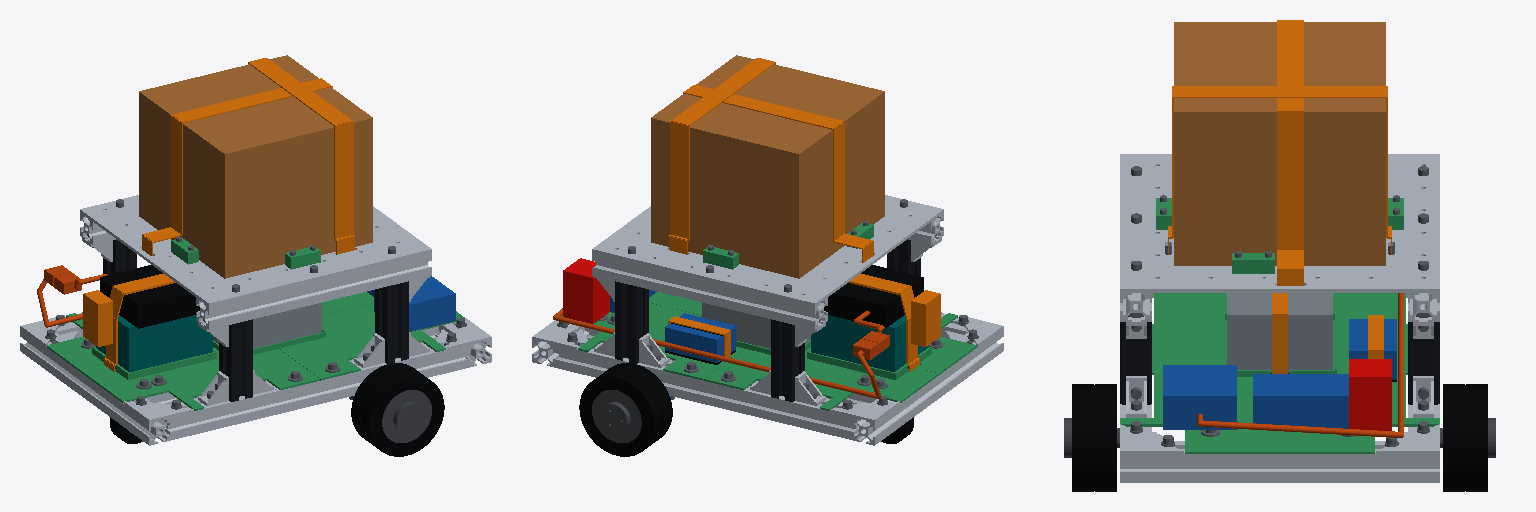
robot.urdf — amr_d61_payload_10kg:
<?xml version='1.0' encoding='utf-8'?>
<robot name="amr_d61_payload_10kg">
  <!--Generated from D6.1. SI units; +X forward, +Y left, +Z up. Inertias are estimates.-->
  <material name="aluminum">
    <color rgba="0.72 0.75 0.79 1" />
  </material>
  <material name="steel">
    <color rgba="0.38 0.4 0.43 1" />
  </material>
  <material name="pla">
    <color rgba="0.22 0.61 0.38 1" />
  </material>
  <material name="posts">
    <color rgba="0.12 0.13 0.15 1" />
  </material>
  <material name="mounts">
    <color rgba="0.15 0.43 0.69 1" />
  </material>
  <material name="motor">
    <color rgba="0.3 0.31 0.33 1" />
  </material>
  <material name="rubber">
    <color rgba="0.055 0.06 0.065 1" />
  </material>
  <material name="battery">
    <color rgba="0.02 0.4 0.4 1" />
  </material>
  <material name="computer">
    <color rgba="0.5 0.54 0.57 1" />
  </material>
  <material name="electronics">
    <color rgba="0.12 0.37 0.67 1" />
  </material>
  <material name="estop">
    <color rgba="0.85 0.08 0.06 1" />
  </material>
  <material name="belts">
    <color rgba="0.88 0.47 0.07 1" />
  </material>
  <material name="wires">
    <color rgba="0.76 0.3 0.08 1" />
  </material>
  <material name="payload">
    <color rgba="0.66 0.44 0.23 1" />
  </material>
  <link name="left_wheel_link">
    <inertial>
      <origin xyz="2.68715937167e-07 0.000842844210193 -1.43130870062e-06" rpy="0 0 0" />
      <mass value="0.45" />
      <inertia ixx="0.000337824360516" ixy="2.57511255333e-09" ixz="-2.83491628371e-11" iyy="0.000517319399072" iyz="-1.83797301139e-08" izz="0.000337817873043" />
    </inertial>
    <visual name="left_wheel_link_motor">
      <geometry>
        <mesh filename="meshes/left_wheel_link_motor.stl" scale="1 1 1" />
      </geometry>
      <material name="motor" />
    </visual>
    <visual name="left_wheel_link_rubber">
      <geometry>
        <mesh filename="meshes/left_wheel_link_rubber.stl" scale="1 1 1" />
      </geometry>
      <material name="rubber" />
    </visual>
    <collision name="left_wheel_link_rolling_contact">
      <origin xyz="0 0 0" rpy="1.57079632679 0 0" />
      <geometry>
        <cylinder radius="0.05035" length="0.043" />
      </geometry>
    </collision>
  </link>
  <link name="base_link">
    <inertial>
      <origin xyz="-0.0934123624767 -0.000838661994572 0.0827997693565" rpy="0 0 0" />
      <mass value="8.87086255317" />
      <inertia ixx="0.124227155104" ixy="0.00168170505231" ixz="0.00515841368992" iyy="0.177634628723" iyz="0.000135323530696" izz="0.226057184438" />
    </inertial>
    <visual name="base_link_motor">
      <geometry>
        <mesh filename="meshes/base_link_motor.stl" scale="1 1 1" />
      </geometry>
      <material name="motor" />
    </visual>
    <visual name="base_link_steel">
      <geometry>
        <mesh filename="meshes/base_link_steel.stl" scale="1 1 1" />
      </geometry>
      <material name="steel" />
    </visual>
    <visual name="base_link_aluminum">
      <geometry>
        <mesh filename="meshes/base_link_aluminum.stl" scale="1 1 1" />
      </geometry>
      <material name="aluminum" />
    </visual>
    <visual name="base_link_mounts">
      <geometry>
        <mesh filename="meshes/base_link_mounts.stl" scale="1 1 1" />
      </geometry>
      <material name="mounts" />
    </visual>
    <visual name="base_link_pla">
      <geometry>
        <mesh filename="meshes/base_link_pla.stl" scale="1 1 1" />
      </geometry>
      <material name="pla" />
    </visual>
    <visual name="base_link_posts">
      <geometry>
        <mesh filename="meshes/base_link_posts.stl" scale="1 1 1" />
      </geometry>
      <material name="posts" />
    </visual>
    <visual name="base_link_electronics">
      <geometry>
        <mesh filename="meshes/base_link_electronics.stl" scale="1 1 1" />
      </geometry>
      <material name="electronics" />
    </visual>
    <visual name="base_link_estop">
      <geometry>
        <mesh filename="meshes/base_link_estop.stl" scale="1 1 1" />
      </geometry>
      <material name="estop" />
    </visual>
    <visual name="base_link_computer">
      <geometry>
        <mesh filename="meshes/base_link_computer.stl" scale="1 1 1" />
      </geometry>
      <material name="computer" />
    </visual>
    <visual name="base_link_battery">
      <geometry>
        <mesh filename="meshes/base_link_battery.stl" scale="1 1 1" />
      </geometry>
      <material name="battery" />
    </visual>
    <visual name="base_link_rubber">
      <geometry>
        <mesh filename="meshes/base_link_rubber.stl" scale="1 1 1" />
      </geometry>
      <material name="rubber" />
    </visual>
    <visual name="base_link_belts">
      <geometry>
        <mesh filename="meshes/base_link_belts.stl" scale="1 1 1" />
      </geometry>
      <material name="belts" />
    </visual>
    <visual name="base_link_wires">
      <geometry>
        <mesh filename="meshes/base_link_wires.stl" scale="1 1 1" />
      </geometry>
      <material name="wires" />
    </visual>
    <visual name="base_link_belts_loaded">
      <geometry>
        <mesh filename="meshes/base_link_belts_loaded.stl" scale="1 1 1" />
      </geometry>
      <material name="belts" />
    </visual>
    <collision name="base_link_Rail400_1">
      <origin xyz="-0.09 -0.135 0.03365" rpy="0 0 0" />
      <geometry>
        <box size="0.4 0.03 0.03" />
      </geometry>
    </collision>
    <collision name="base_link_Rail400_2">
      <origin xyz="-0.09 -0.065 0.03365" rpy="0 0 0" />
      <geometry>
        <box size="0.4 0.03 0.03" />
      </geometry>
    </collision>
    <collision name="base_link_Rail400_3">
      <origin xyz="-0.09 0.065 0.03365" rpy="0 0 0" />
      <geometry>
        <box size="0.4 0.03 0.03" />
      </geometry>
    </collision>
    <collision name="base_link_Rail400_4">
      <origin xyz="-0.09 0.135 0.03365" rpy="0 0 0" />
      <geometry>
        <box size="0.4 0.03 0.03" />
      </geometry>
    </collision>
    <collision name="base_link_Cross300_1">
      <origin xyz="-0.305 0 0.03365" rpy="0 0 0" />
      <geometry>
        <box size="0.03 0.3 0.03" />
      </geometry>
    </collision>
    <collision name="base_link_Cross300_2">
      <origin xyz="0.125 0 0.03365" rpy="0 0 0" />
      <geometry>
        <box size="0.03 0.3 0.03" />
      </geometry>
    </collision>
    <collision name="base_link_CustomMotorMountL">
      <origin xyz="0 0.135 0.00165" rpy="0 0 0" />
      <geometry>
        <box size="0.09 0.03 0.034" />
      </geometry>
    </collision>
    <collision name="base_link_CustomMotorMountR">
      <origin xyz="0 -0.135 0.00165" rpy="0 0 0" />
      <geometry>
        <box size="0.09 0.03 0.034" />
      </geometry>
    </collision>
    <collision name="base_link_CasterAdapter">
      <origin xyz="-0.24 0 0.01665" rpy="0 0 0" />
      <geometry>
        <box size="0.08 0.17 0.004" />
      </geometry>
    </collision>
    <collision name="base_link_CasterTop">
      <origin xyz="-0.24 0 0.0134" rpy="0 0 0" />
      <geometry>
        <box size="0.059 0.047 0.0025" />
      </geometry>
    </collision>
    <collision name="base_link_Reserved_Protection">
      <origin xyz="0.08 -0.075 0.07915" rpy="0 0 0" />
      <geometry>
        <box size="0.07 0.07 0.035" />
      </geometry>
    </collision>
    <collision name="base_link_Reserved_ClampAndPower">
      <origin xyz="0.09 0.02 0.07915" rpy="0 0 0" />
      <geometry>
        <box size="0.05 0.09 0.035" />
      </geometry>
    </collision>
    <collision name="base_link_Reserved_EmergencyStop">
      <origin xyz="0.105 0.085 0.09165" rpy="0 0 0" />
      <geometry>
        <box size="0.04 0.04 0.06" />
      </geometry>
    </collision>
    <collision name="base_link_Reserved_SupervisorRS485">
      <origin xyz="-0.05 0.0875 0.06865" rpy="0 0 0" />
      <geometry>
        <box size="0.07 0.045 0.03" />
      </geometry>
    </collision>
    <collision name="base_link_Reserved_Computer">
      <origin xyz="-0.09 0 0.08365" rpy="0 0 0" />
      <geometry>
        <box size="0.12 0.1 0.06" />
      </geometry>
    </collision>
    <collision name="base_link_AluminumDeckD3">
      <origin xyz="-0.09 0 0.18065" rpy="0 0 0" />
      <geometry>
        <box size="0.3 0.3 0.004" />
      </geometry>
    </collision>
    <collision name="base_link_PrintedStopXN">
      <origin xyz="-0.1995 -0.025 0.19015" rpy="0 0 0" />
      <geometry>
        <box size="0.015 0.04 0.015" />
      </geometry>
    </collision>
    <collision name="base_link_PrintedStopXP">
      <origin xyz="0.0195 -0.025 0.19015" rpy="0 0 0" />
      <geometry>
        <box size="0.015 0.04 0.015" />
      </geometry>
    </collision>
    <collision name="base_link_PrintedStopYN">
      <origin xyz="-0.09 -0.1095 0.19015" rpy="0 0 0" />
      <geometry>
        <box size="0.04 0.015 0.015" />
      </geometry>
    </collision>
    <collision name="base_link_PrintedStopYP">
      <origin xyz="-0.09 0.1095 0.19015" rpy="0 0 0" />
      <geometry>
        <box size="0.04 0.015 0.015" />
      </geometry>
    </collision>
    <collision name="base_link_Upright3030_0">
      <origin xyz="-0.195 -0.135 0.09865" rpy="0 0 0" />
      <geometry>
        <box size="0.03 0.03 0.1" />
      </geometry>
    </collision>
    <collision name="base_link_Upright3030_1">
      <origin xyz="-0.195 0.135 0.09865" rpy="0 0 0" />
      <geometry>
        <box size="0.03 0.03 0.1" />
      </geometry>
    </collision>
    <collision name="base_link_Upright3030_2">
      <origin xyz="0.015 -0.135 0.09865" rpy="0 0 0" />
      <geometry>
        <box size="0.03 0.03 0.1" />
      </geometry>
    </collision>
    <collision name="base_link_Upright3030_3">
      <origin xyz="0.015 0.135 0.09865" rpy="0 0 0" />
      <geometry>
        <box size="0.03 0.03 0.1" />
      </geometry>
    </collision>
    <collision name="base_link_UpperRail3030_0">
      <origin xyz="-0.09 -0.135 0.16365" rpy="0 0 0" />
      <geometry>
        <box size="0.3 0.03 0.03" />
      </geometry>
    </collision>
    <collision name="base_link_UpperRail3030_1">
      <origin xyz="-0.09 0.135 0.16365" rpy="0 0 0" />
      <geometry>
        <box size="0.3 0.03 0.03" />
      </geometry>
    </collision>
    <collision name="base_link_FloorPLA_0_0">
      <origin xyz="-0.2051 -0.0751 0.04985" rpy="0 0 0" />
      <geometry>
        <box size="0.2298 0.1498 0.0024" />
      </geometry>
    </collision>
    <collision name="base_link_FloorPLA_0_1">
      <origin xyz="-0.2051 0.0751 0.04985" rpy="0 0 0" />
      <geometry>
        <box size="0.2298 0.1498 0.0024" />
      </geometry>
    </collision>
    <collision name="base_link_FloorPLA_1_0">
      <origin xyz="0.0251 -0.0751 0.04985" rpy="0 0 0" />
      <geometry>
        <box size="0.2298 0.1498 0.0024" />
      </geometry>
    </collision>
    <collision name="base_link_FloorPLA_1_1">
      <origin xyz="0.0251 0.0751 0.04985" rpy="0 0 0" />
      <geometry>
        <box size="0.2298 0.1498 0.0024" />
      </geometry>
    </collision>
    <collision name="base_link_BatteryBL1860B">
      <origin xyz="-0.2265 0 0.08465" rpy="0 0 0" />
      <geometry>
        <box size="0.113 0.075 0.062" />
      </geometry>
    </collision>
    <collision name="base_link_BatteryAdapter03">
      <origin xyz="-0.2265 0 0.13065" rpy="0 0 0" />
      <geometry>
        <box size="0.095 0.09 0.03" />
      </geometry>
    </collision>
    <collision name="base_link_BatteryBuckleEnvelope">
      <origin xyz="-0.302 0 0.11715" rpy="0 0 0" />
      <geometry>
        <box size="0.02 0.035 0.055" />
      </geometry>
    </collision>
  </link>
  <link name="right_wheel_link">
    <inertial>
      <origin xyz="-2.68715937167e-07 -0.000842844210193 -1.43130870061e-06" rpy="0 0 0" />
      <mass value="0.45" />
      <inertia ixx="0.000337824360516" ixy="2.57511255324e-09" ixz="2.83491629754e-11" iyy="0.000517319399072" iyz="1.83797301136e-08" izz="0.000337817873043" />
    </inertial>
    <visual name="right_wheel_link_motor">
      <geometry>
        <mesh filename="meshes/right_wheel_link_motor.stl" scale="1 1 1" />
      </geometry>
      <material name="motor" />
    </visual>
    <visual name="right_wheel_link_rubber">
      <geometry>
        <mesh filename="meshes/right_wheel_link_rubber.stl" scale="1 1 1" />
      </geometry>
      <material name="rubber" />
    </visual>
    <collision name="right_wheel_link_rolling_contact">
      <origin xyz="0 0 0" rpy="1.57079632679 0 0" />
      <geometry>
        <cylinder radius="0.05035" length="0.043" />
      </geometry>
    </collision>
  </link>
  <link name="caster_swivel_link">
    <inertial>
      <origin xyz="-0.00208368833284 3.45547710101e-19 -0.0060383207606" rpy="0 0 0" />
      <mass value="0.0887160418696" />
      <inertia ixx="2.00832544816e-05" ixy="4.85850705141e-22" ixz="-4.29660604946e-06" iyy="1.90849352283e-05" iyz="-2.53397249247e-22" izz="1.76394659271e-05" />
    </inertial>
    <visual name="caster_swivel_link_steel">
      <geometry>
        <mesh filename="meshes/caster_swivel_link_steel.stl" scale="1 1 1" />
      </geometry>
      <material name="steel" />
    </visual>
    <collision name="caster_swivel_link_swivel_race">
      <origin xyz="0 0 0" rpy="0 0 0" />
      <geometry>
        <cylinder radius="0.019" length="0.009" />
      </geometry>
    </collision>
    <collision name="caster_swivel_link_fork_0">
      <origin xyz="-0.003 -0.0125 -0.01875" rpy="0 0 0" />
      <geometry>
        <box size="0.036 0.003 0.0285" />
      </geometry>
    </collision>
    <collision name="caster_swivel_link_fork_1">
      <origin xyz="-0.003 0.0125 -0.01875" rpy="0 0 0" />
      <geometry>
        <box size="0.036 0.003 0.0285" />
      </geometry>
    </collision>
    <collision name="caster_swivel_link_fork_2">
      <origin xyz="-0.016 0 -0.033" rpy="0 0 0" />
      <geometry>
        <box size="0.006 0.032 0.006" />
      </geometry>
    </collision>
  </link>
  <link name="caster_wheel_link">
    <inertial>
      <origin xyz="2.84217094304e-17 2.29472925463e-19 0" rpy="0 0 0" />
      <mass value="0.035507350075" />
      <inertia ixx="6.57068391835e-06" ixy="2.3584551378e-23" ixz="-1.75899594661e-20" iyy="1.0774211165e-05" iyz="-2.27653595497e-22" izz="6.57068391835e-06" />
    </inertial>
    <visual name="caster_wheel_link_rubber">
      <geometry>
        <mesh filename="meshes/caster_wheel_link_rubber.stl" scale="1 1 1" />
      </geometry>
      <material name="rubber" />
    </visual>
    <visual name="caster_wheel_link_steel">
      <geometry>
        <mesh filename="meshes/caster_wheel_link_steel.stl" scale="1 1 1" />
      </geometry>
      <material name="steel" />
    </visual>
    <collision name="caster_wheel_link_rolling_contact">
      <origin xyz="0 0 0" rpy="1.57079632679 0 0" />
      <geometry>
        <cylinder radius="0.025" length="0.02" />
      </geometry>
    </collision>
  </link>
  <link name="payload_link">
    <inertial>
      <origin xyz="-5.30457172566e-19 -7.01068832617e-19 5.68434188608e-17" rpy="0 0 0" />
      <mass value="10" />
      <inertia ixx="0.0546666666667" ixy="-5.62054261308e-20" ixz="1.6452128394e-18" iyy="0.0546666666667" iyz="1.71989237667e-18" izz="0.0666666666667" />
    </inertial>
    <visual name="example_cargo">
      <geometry>
        <box size="0.2 0.2 0.16" />
      </geometry>
      <material name="payload" />
    </visual>
    <collision name="payload_link_cargo_box">
      <origin xyz="0 0 0" rpy="0 0 0" />
      <geometry>
        <box size="0.2 0.2 0.16" />
      </geometry>
    </collision>
  </link>
  <joint name="left_wheel_joint" type="continuous">
    <parent link="base_link" />
    <child link="left_wheel_link" />
    <origin xyz="0 0.1745 0" rpy="0 0 0" />
    <axis xyz="0 1 0" />
    <limit effort="0.96" velocity="12.0427718388" />
    <dynamics damping="0" friction="0" />
  </joint>
  <joint name="right_wheel_joint" type="continuous">
    <parent link="base_link" />
    <child link="right_wheel_link" />
    <origin xyz="0 -0.1745 0" rpy="0 0 0" />
    <axis xyz="0 1 0" />
    <limit effort="0.96" velocity="12.0427718388" />
    <dynamics damping="0" friction="0" />
  </joint>
  <joint name="caster_swivel_joint" type="continuous">
    <parent link="base_link" />
    <child link="caster_swivel_link" />
    <origin xyz="-0.24 0 0.00765" rpy="0 0 0" />
    <axis xyz="0 0 1" />
    <limit effort="0" velocity="30" />
    <dynamics damping="0" friction="0" />
  </joint>
  <joint name="caster_wheel_joint" type="continuous">
    <parent link="caster_swivel_link" />
    <child link="caster_wheel_link" />
    <origin xyz="-0.016 0 -0.033" rpy="0 0 0" />
    <axis xyz="0 1 0" />
    <limit effort="0" velocity="30" />
    <dynamics damping="0" friction="0" />
  </joint>
  <joint name="payload_fixed_joint" type="fixed">
    <parent link="base_link" />
    <child link="payload_link" />
    <origin xyz="-0.09 0 0.26265" rpy="0 0 0" />
  </joint>
</robot>

--- What the picture shows (computed from the rendered views, not written in the file) ---
The picture shows the robot from 3 angles, left to right: view 1: azimuth 30°, elevation 25°; view 2: azimuth 150°, elevation 25°; view 3: azimuth 270°, elevation 25°; orthographic projection.
Model amr_d61_payload_10kg with 6 links and 5 joints (4 continuous, 1 fixed), rooted at base_link, posed every joint at zero.
Visible links, largest first — view 1: base_link, payload_link, right_wheel_link; view 2: base_link, payload_link, left_wheel_link; view 3: base_link, payload_link, left_wheel_link, right_wheel_link.
Boxes of the visible links, x1,y1,x2,y2 form: base_link: (20,58,491,445); payload_link: (139,55,372,278); right_wheel_link: (351,363,444,456); base_link: (532,58,1003,445); payload_link: (651,55,884,278); left_wheel_link: (579,363,672,456); base_link: (1117,20,1442,482); payload_link: (1174,22,1385,265); left_wheel_link: (1443,384,1495,491); right_wheel_link: (1064,384,1116,491).
Size in the robot's own frame: 0.46 by 0.4066 by 0.396 metres.
21 mesh visuals loaded from 21 distinct referenced files (21 binary STL).
